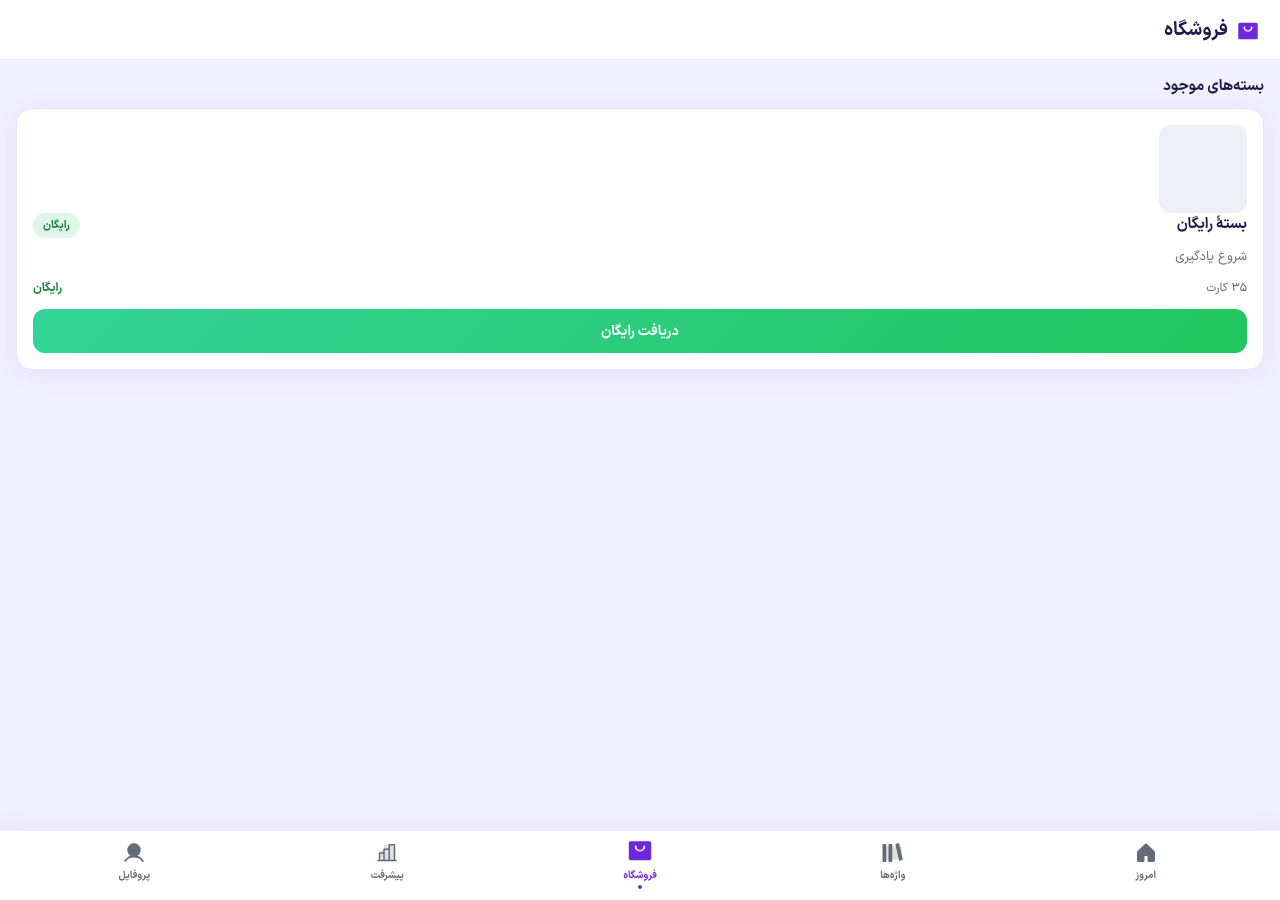
Test: M2.3 Store screen states › posts only the pack id when acquiring, then re-reads ownership from the server
Click the button "دریافت رایگان": (640,331) left=33, top=309, right=1247, bottom=353
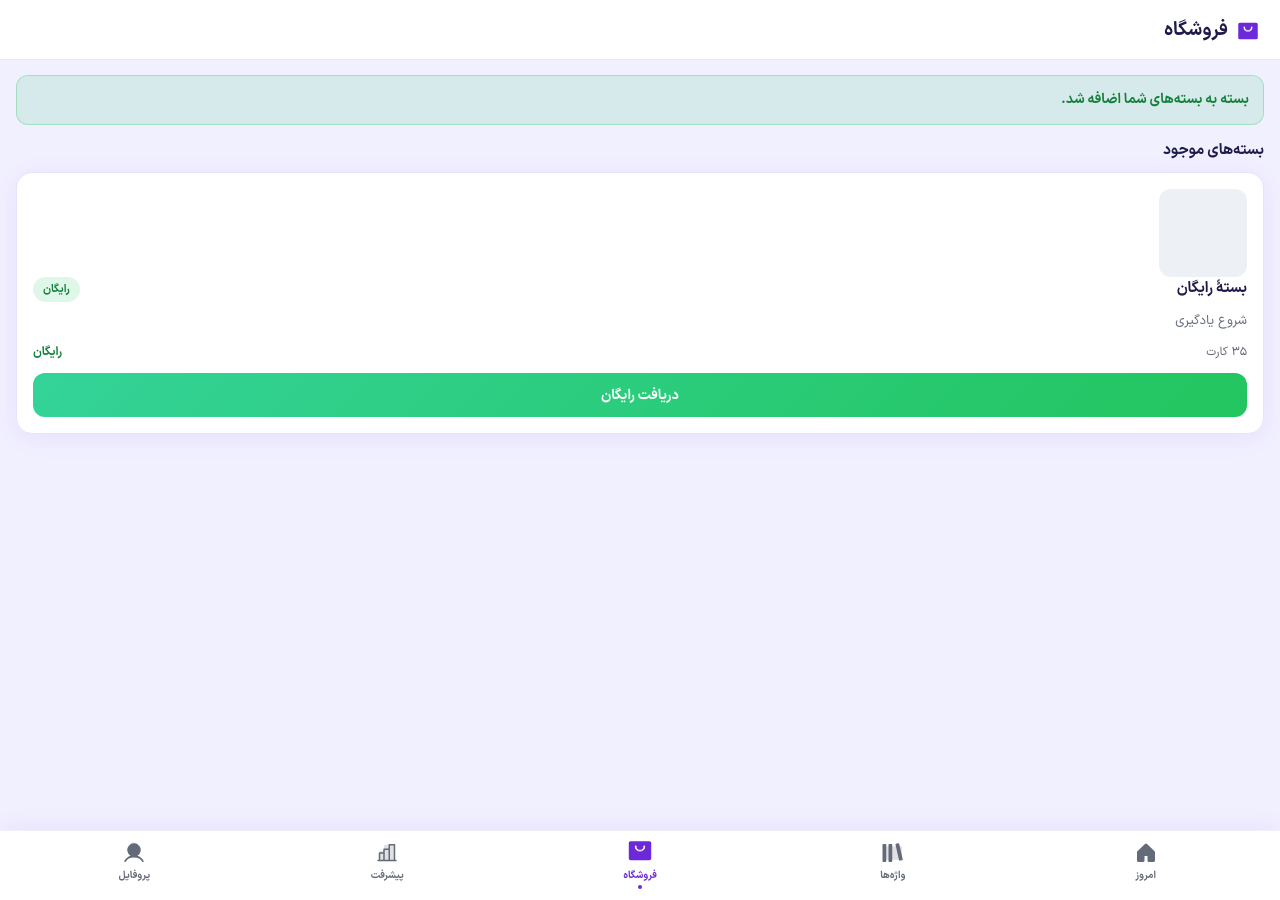
Now the text "بسته به بسته‌های شما اضافه شد" is shown, box left=1061, top=89, right=1249, bottom=110
